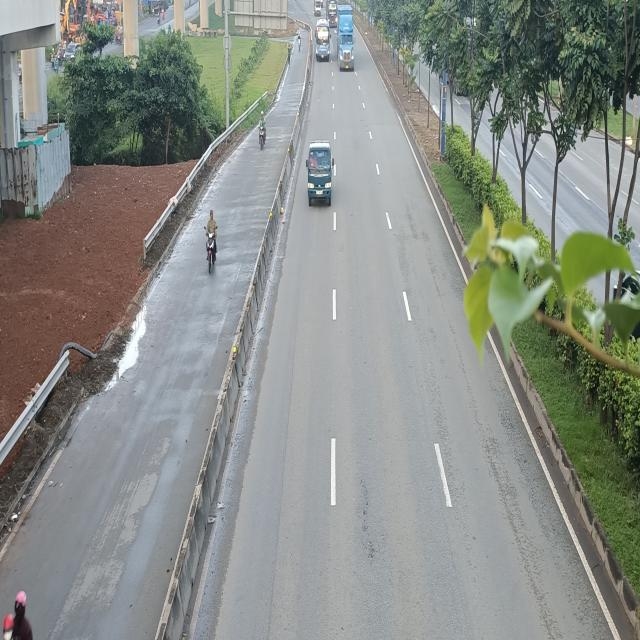coach: (314, 20, 330, 61)
container: (338, 5, 356, 72)
truck: (305, 140, 336, 208)
